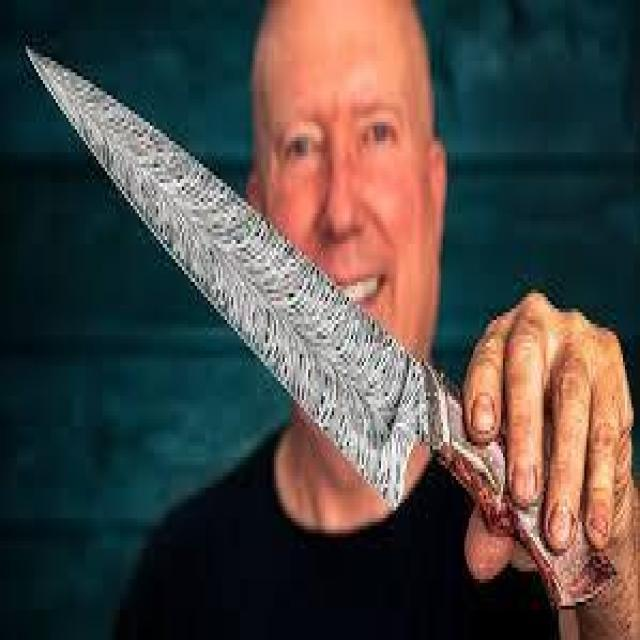Knife: (8, 32, 612, 617)
